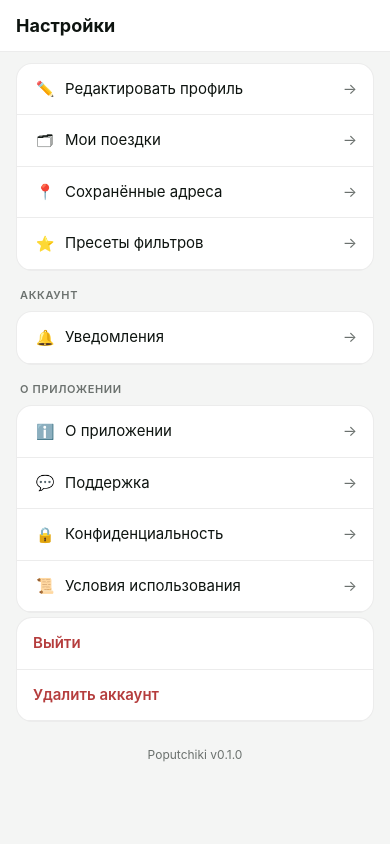
Test case: SettingsScreen › отмена удаления закрывает модалку
(page scrolled)
Step 1. Click the button with test id "delete-account-btn" → click(96, 694), box [17, 670, 373, 721]
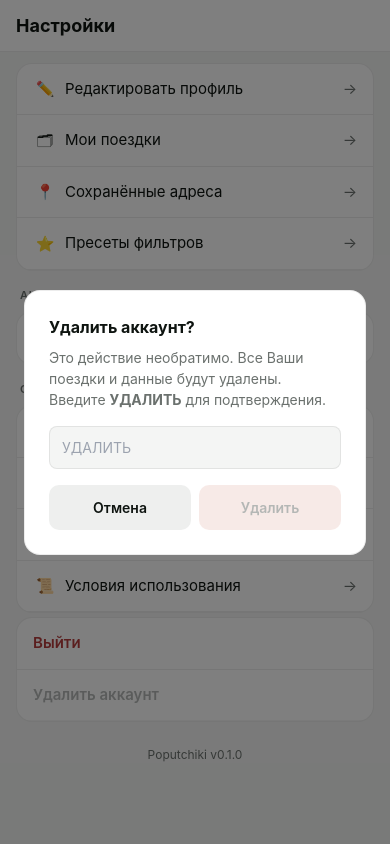
Check: the element with test id "delete-confirm-modal" is shown
Step 2. Click the button "Отмена" → click(120, 507), box [49, 484, 191, 530]
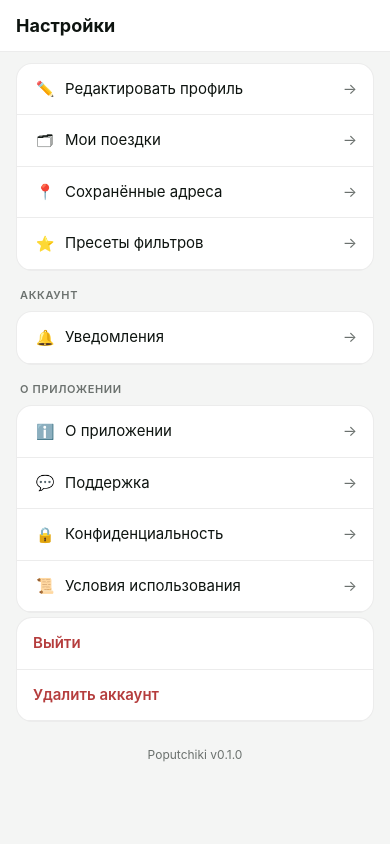
Check: the element with test id "delete-confirm-modal" is gone
